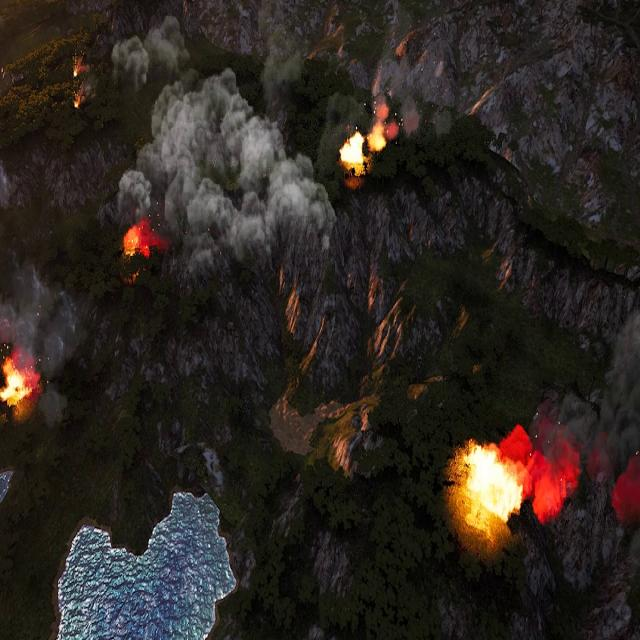fire: (454, 424, 576, 544), (0, 356, 36, 406), (122, 219, 162, 260), (340, 130, 366, 168), (369, 125, 387, 152), (74, 96, 80, 106), (74, 72, 77, 78)
smoke: (110, 12, 333, 270), (507, 298, 640, 636), (0, 264, 80, 426), (1, 162, 11, 214)
